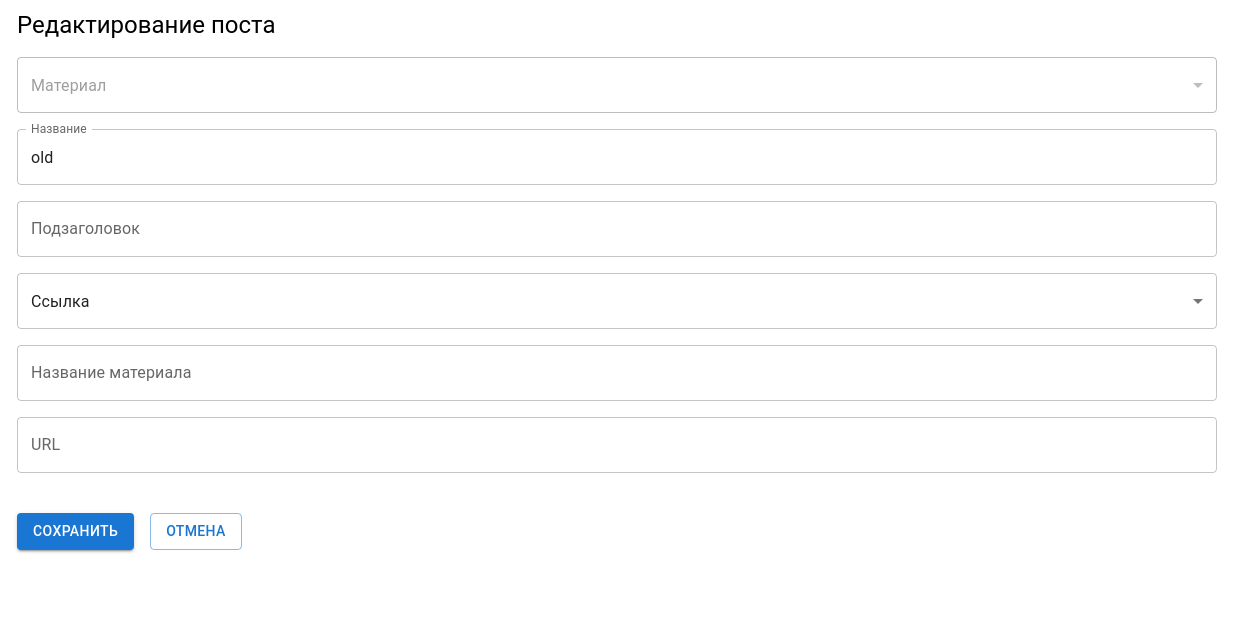
Test: EditPostPage › ошибка при submit отображается
The width and height of the screenshot is (1234, 634).
Click the button "Сохранить". click: (76,531)
box: [17, 513, 134, 550]
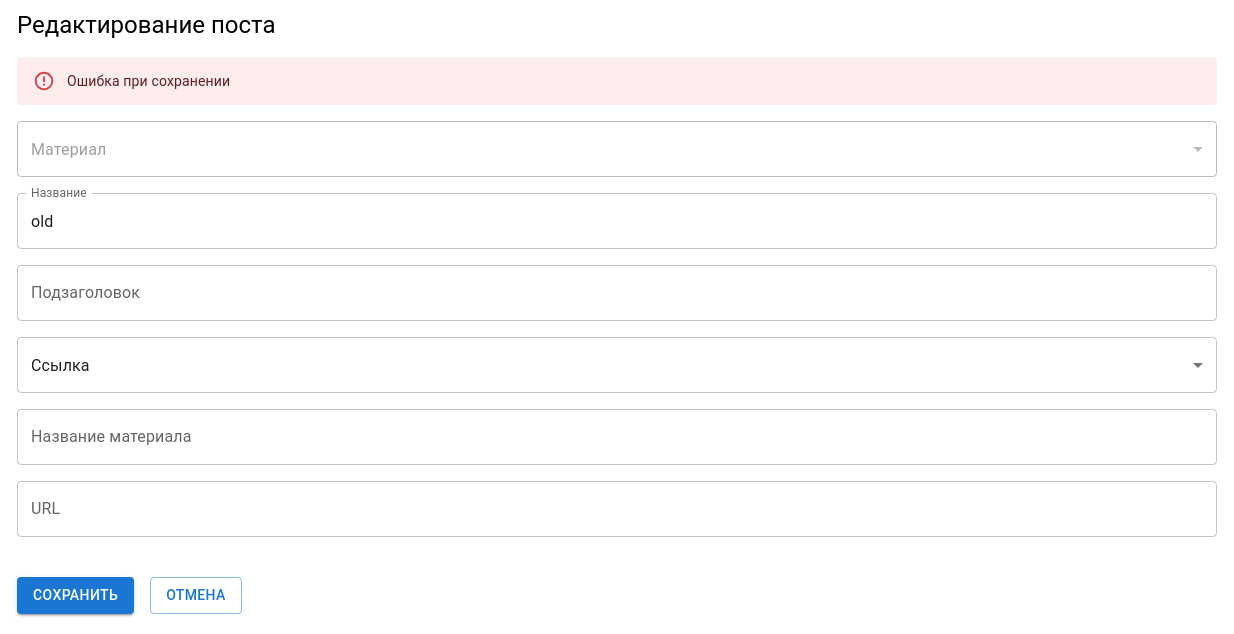
Result: the text "Ошибка при сохранении" is shown at [67, 73, 230, 89]
